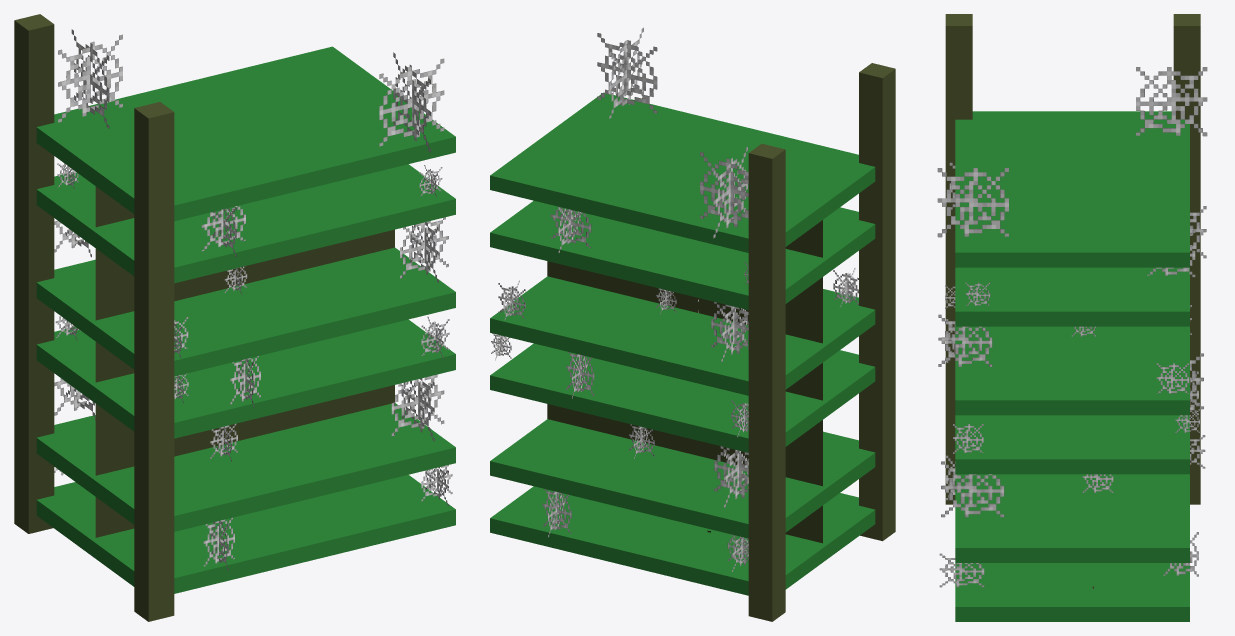
File: almacen_vacio_com.fbx
The picture shows the model from 3 angles, left to right: view 1: azimuth 30°, elevation 25°; view 2: azimuth 150°, elevation 25°; view 3: azimuth 270°, elevation 25°; orthographic projection. The views are drawn at different scales.
Visible parts, largest first — view 1: telaraña.052; view 2: telaraña.052; view 3: telaraña.052.
Boxes of the visible parts, bbox=[...] form: telaraña.052: bbox=[14, 14, 455, 621]; telaraña.052: bbox=[490, 27, 895, 621]; telaraña.052: bbox=[937, 14, 1207, 621].
Bounding box in the file's own units: 3329 × 4970 × 2787.
